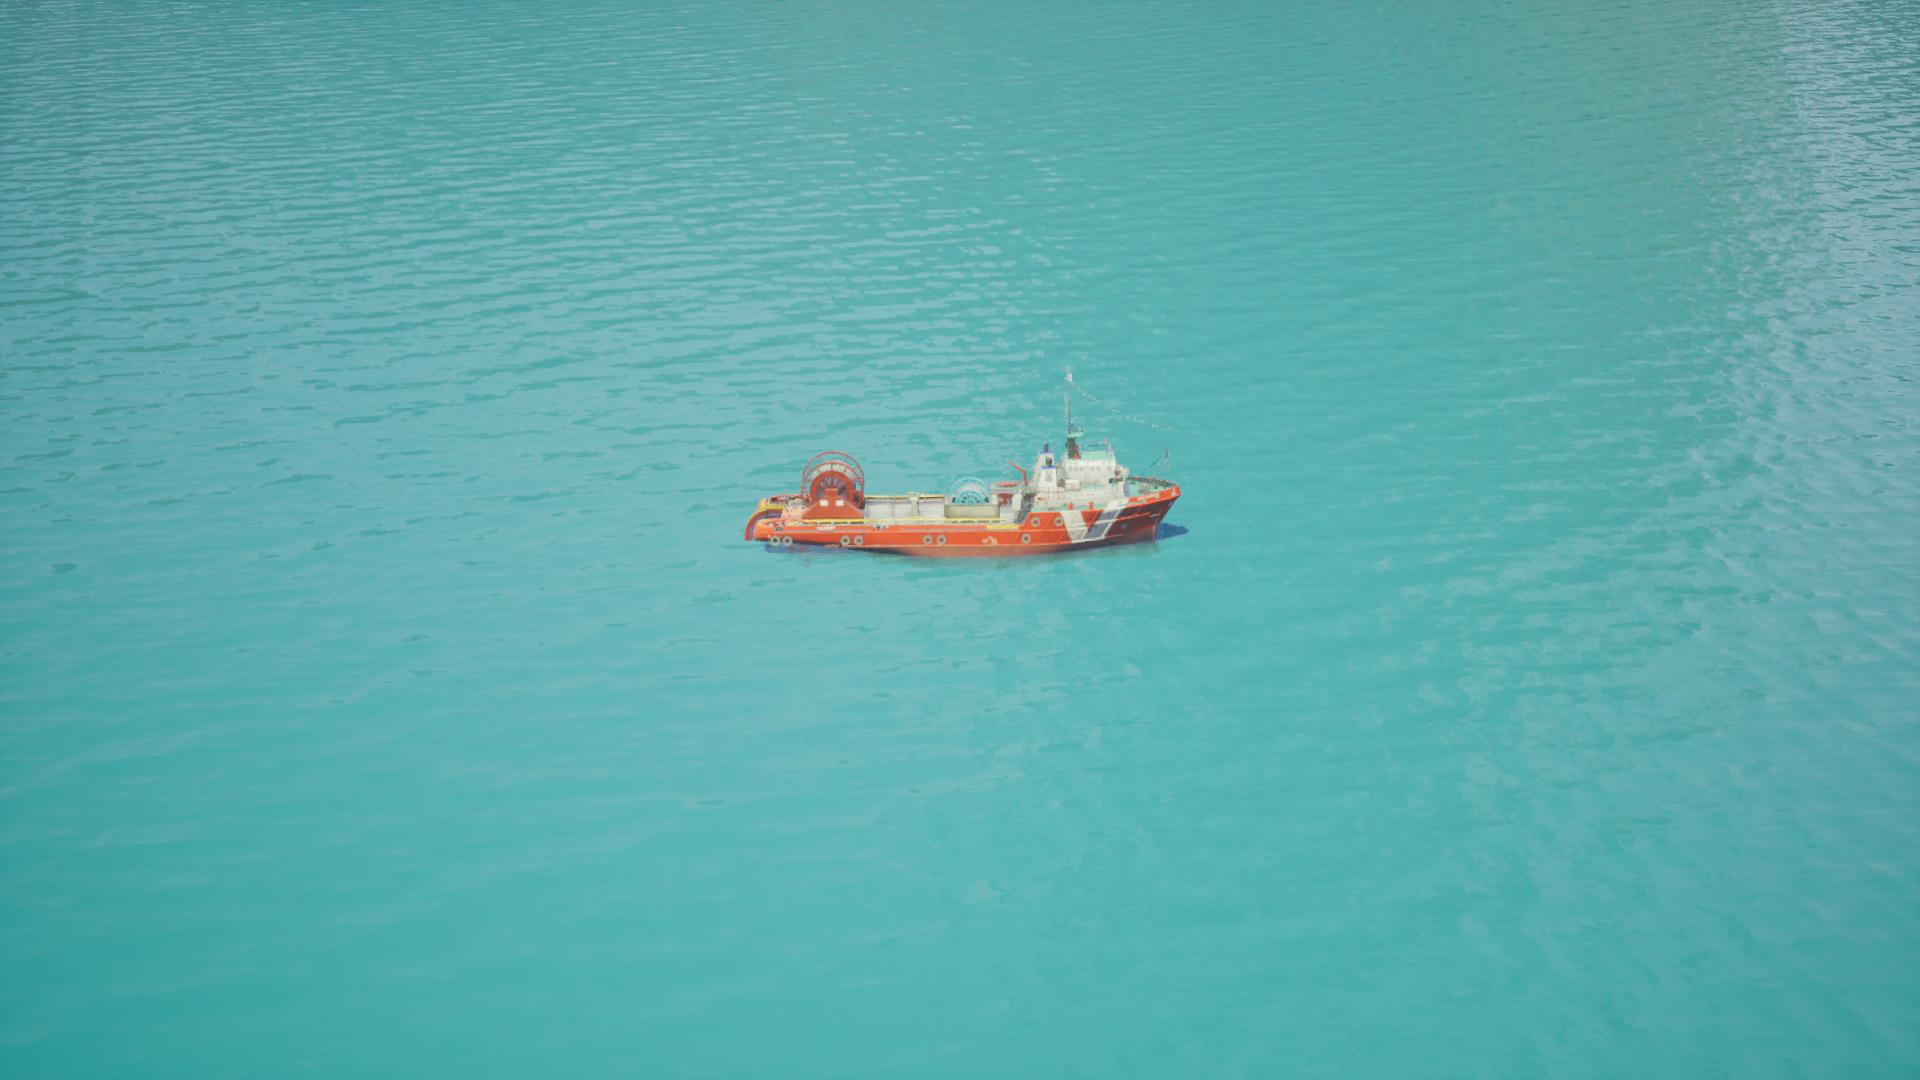Tug Boat: (741, 371, 1192, 567)
